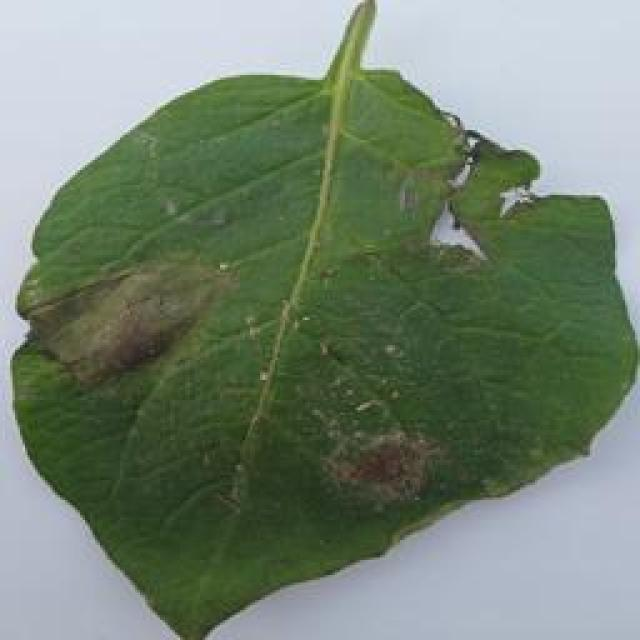Potato_Late_Blight: (12, 11, 628, 638)
